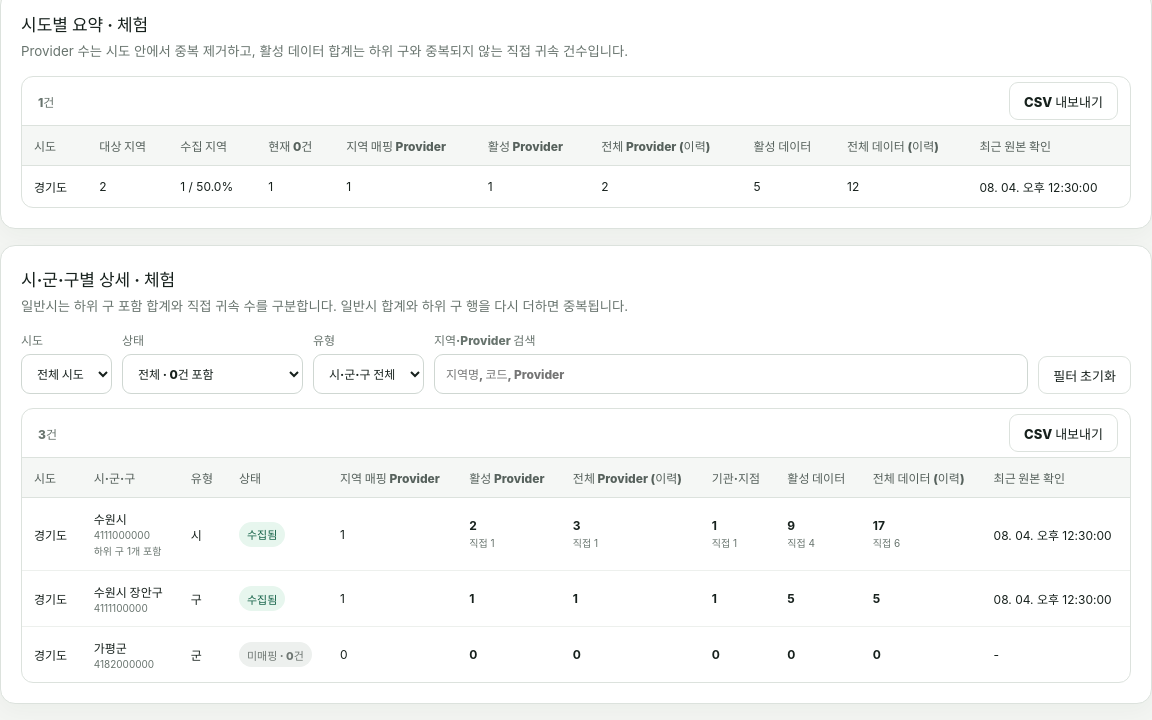
RegionCoveragePage › keeps zero-data municipalities visible and filters them explicitly
The image size is (1152, 720).
(page scrolled)
expect the text "수원시 장안구" is shown: met, box [94,583,167,600]
expect the text "가평군" is shown: met, box [94,641,127,656]
Select "현재 0건" in the dropdown labelled "상태" at (212, 374), box [122,354,303,394]
(page scrolled)
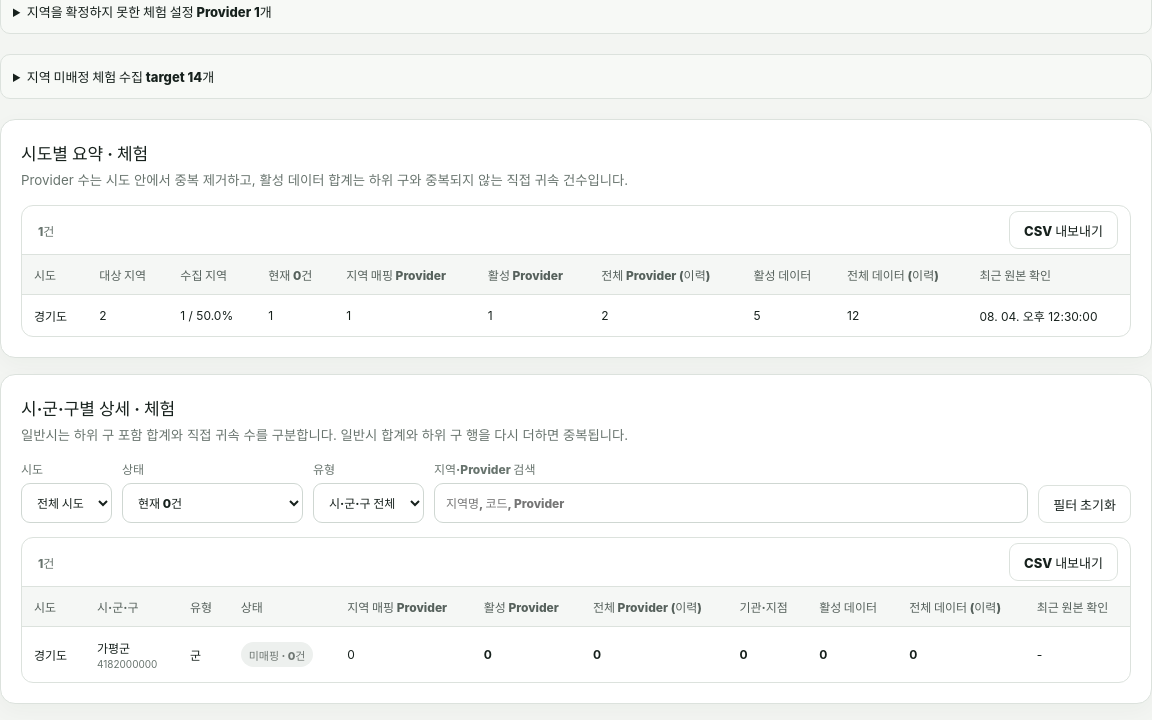
expect the element "시·군·구별 상세 · 체험" is shown: met, box [0,374,1151,704]
expect the text "수원시 장안구" is gone: met
expect the text "가평군" is shown: met, box [97,641,130,656]
